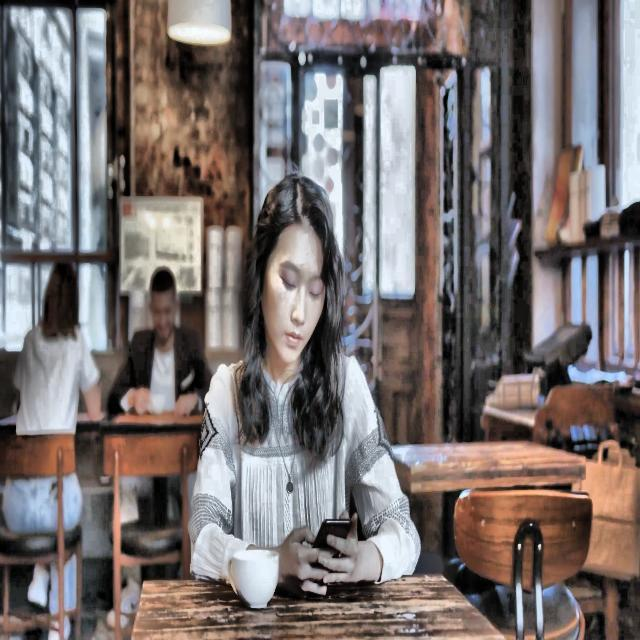Phone: (309, 514, 354, 562)
